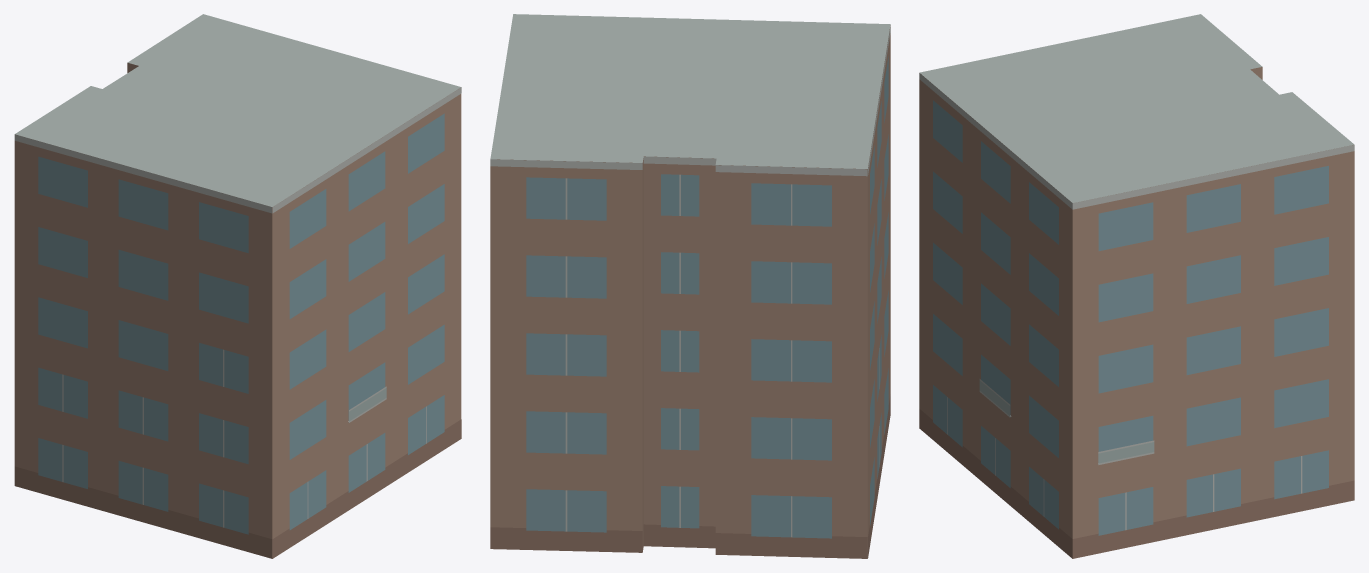
Rendered from survey-upis-32716416.glb.
3 renders of one model, left to right at view 1: azimuth 30°, elevation 25°; view 2: azimuth 150°, elevation 25°; view 3: azimuth 270°, elevation 25°, orthographic. The views are drawn at different scales.
Parts seen in each view (by area): view 1: survey-upis-32716416.tmp; view 2: survey-upis-32716416.tmp; view 3: survey-upis-32716416.tmp.
Part boxes in pixels (x1,y1,x2,y2): survey-upis-32716416.tmp: [14, 14, 461, 558]; survey-upis-32716416.tmp: [490, 14, 890, 558]; survey-upis-32716416.tmp: [919, 14, 1354, 558].
Size of the model in its own units: 15.3 by 13.4 by 14.87.
